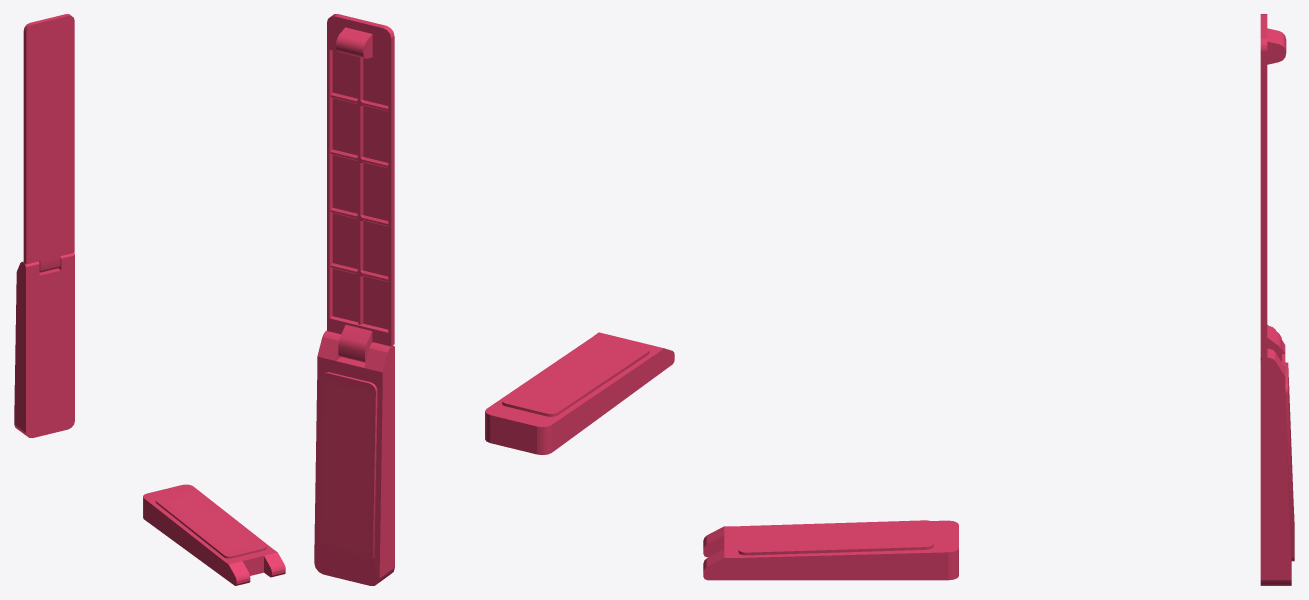
Rendered from Vagon_Stateroom_Equipment_Stairs_01.fbx.
3 views of the same model, side by side, from view 1: azimuth 30°, elevation 25°; view 2: azimuth 150°, elevation 25°; view 3: azimuth 270°, elevation 25° (orthographic). The views are drawn at different scales.
Parts seen in each view (by area): view 1: Vagon_Stateroom_Equipment_Stairs_Side_01, Vagon_Stateroom_Equipment_Stairs_01, Vagon_Stateroom_Equipment_Stairs_Up_01; view 2: Vagon_Stateroom_Equipment_Stairs_Side_01, Vagon_Stateroom_Equipment_Stairs_01, Vagon_Stateroom_Equipment_Stairs_Up_01; view 3: Vagon_Stateroom_Equipment_Stairs_Up_01, Vagon_Stateroom_Equipment_Stairs_01, Vagon_Stateroom_Equipment_Stairs_Side_01.
Boxes of the visible parts, left/top/right/bottom form: Vagon_Stateroom_Equipment_Stairs_Side_01: left=23, top=14, right=74, bottom=272; Vagon_Stateroom_Equipment_Stairs_01: left=14, top=253, right=74, bottom=437; Vagon_Stateroom_Equipment_Stairs_Up_01: left=143, top=484, right=285, bottom=585; Vagon_Stateroom_Equipment_Stairs_Side_01: left=327, top=14, right=394, bottom=362; Vagon_Stateroom_Equipment_Stairs_01: left=314, top=330, right=394, bottom=585; Vagon_Stateroom_Equipment_Stairs_Up_01: left=485, top=332, right=674, bottom=454; Vagon_Stateroom_Equipment_Stairs_Up_01: left=703, top=520, right=958, bottom=580; Vagon_Stateroom_Equipment_Stairs_01: left=1260, top=326, right=1294, bottom=585; Vagon_Stateroom_Equipment_Stairs_Side_01: left=1260, top=14, right=1286, bottom=361.
Bounding box in the file's own units: 0.0768 × 0.616 × 0.6035.
